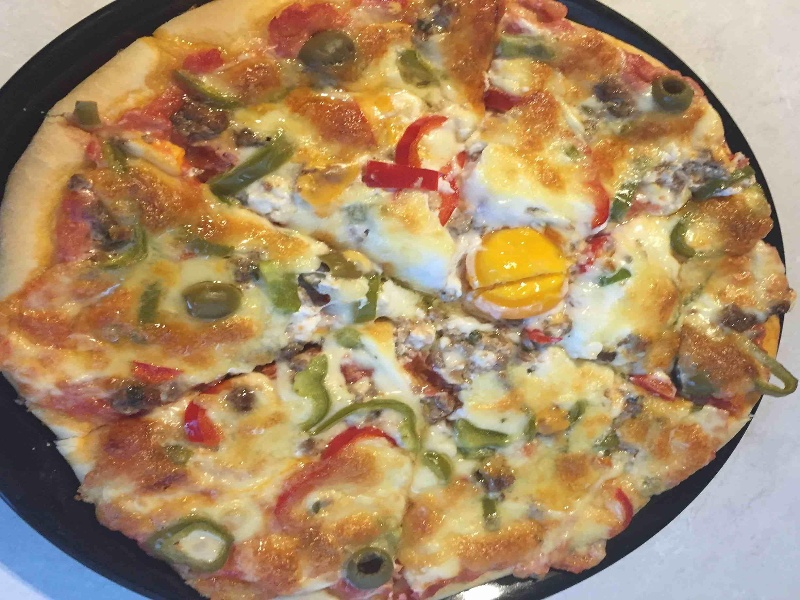oeuf: (449, 212, 597, 330)
olive: (293, 21, 364, 80), (176, 271, 252, 322), (338, 542, 405, 591), (646, 70, 703, 124)
